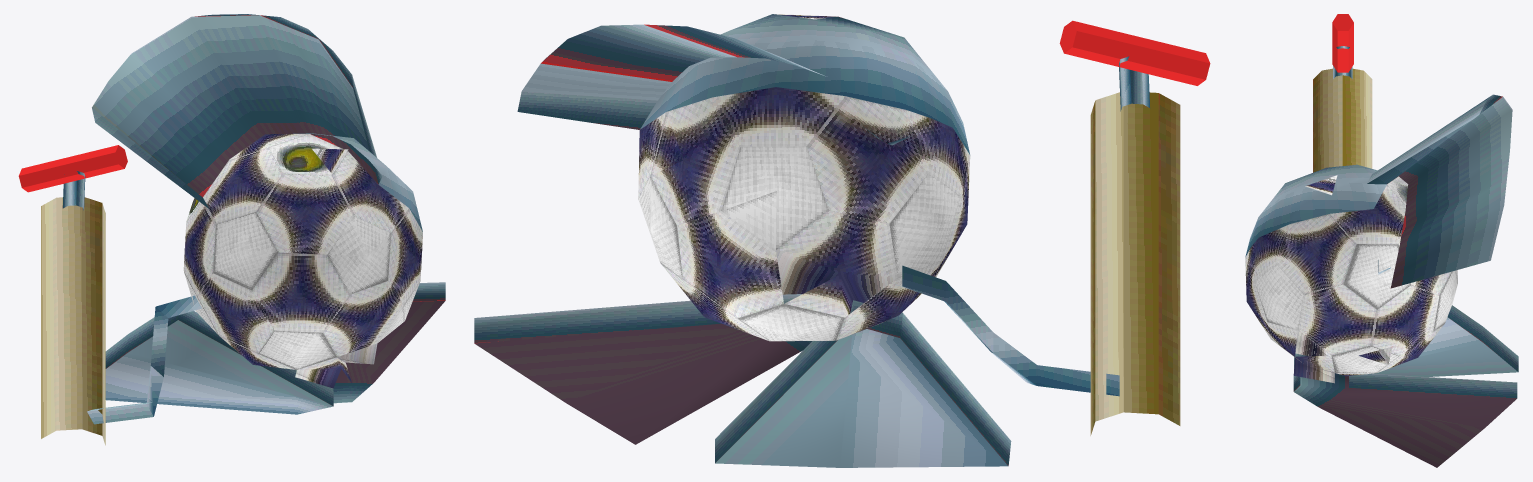
Rendered from ps2_save-icons_fifasoccerworldchampionship.glb.
The picture shows the model from 3 angles, left to right: view 1: azimuth 30°, elevation 25°; view 2: azimuth 150°, elevation 25°; view 3: azimuth 270°, elevation 25°; orthographic projection. The views are drawn at different scales.
Visible parts, largest first — view 1: list.ico; view 2: list.ico; view 3: list.ico.
Boxes of the visible parts, <box> form: list.ico: <box>18,14,445,445</box>; list.ico: <box>474,14,1210,467</box>; list.ico: <box>1245,14,1518,467</box>.
Bounding box in the file's own units: 3.72 × 2.27 × 2.09.
Materials: 1 (1 with a texture image).
